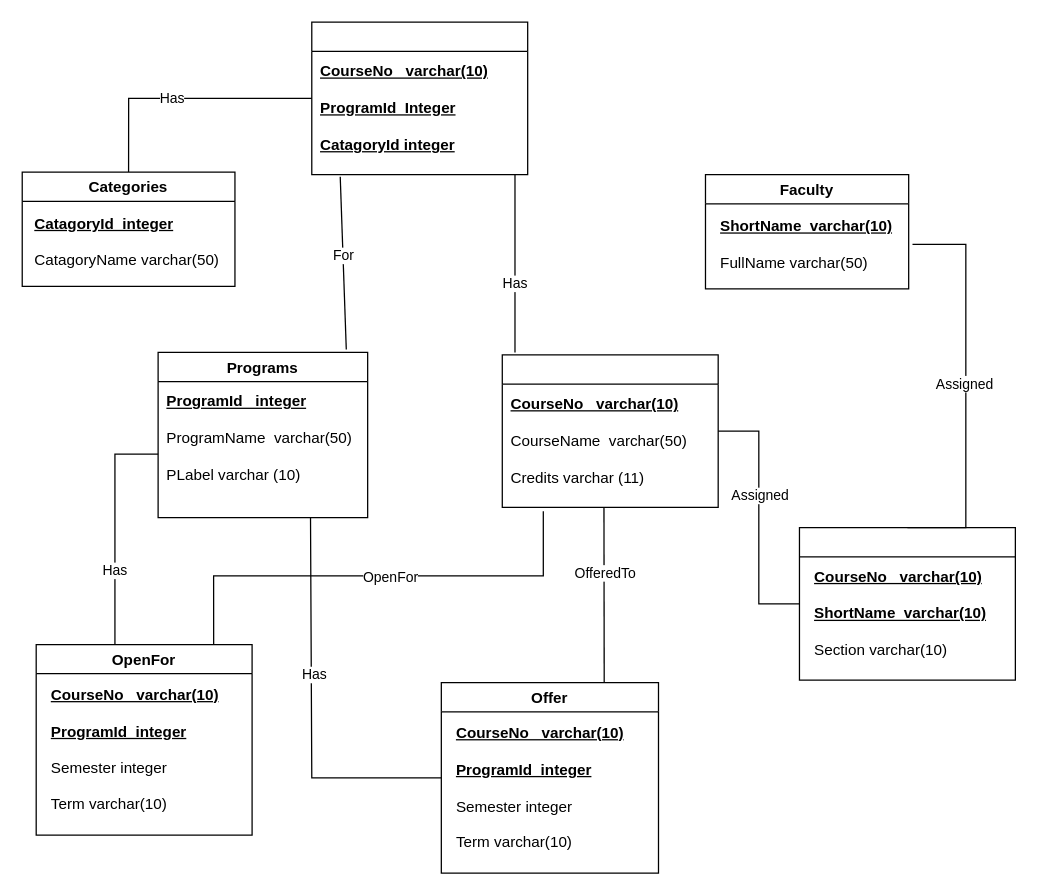
Some shapes in this 1038 by 895 pixel diagram are drawn without their labels. Each missing label, with the box of its shape:
Courses: (501, 354, 718, 507)
CourseType: (311, 21, 528, 175)
FacultyAssigned: (798, 526, 1015, 680)
